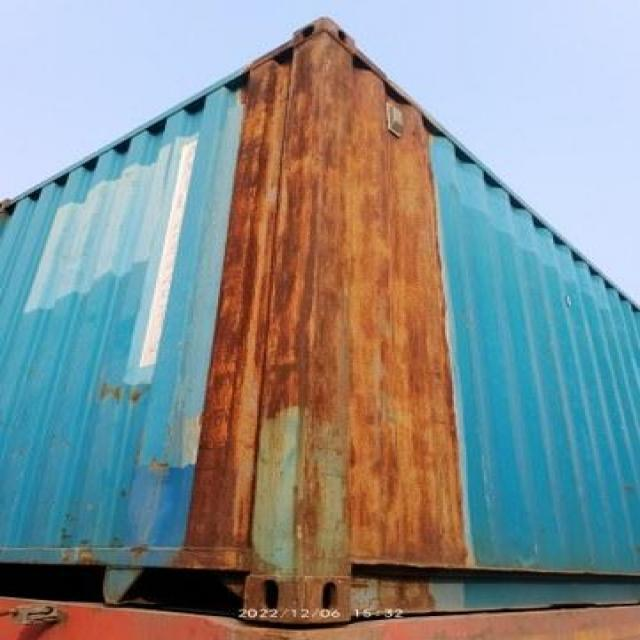rust: (182, 20, 473, 565)
